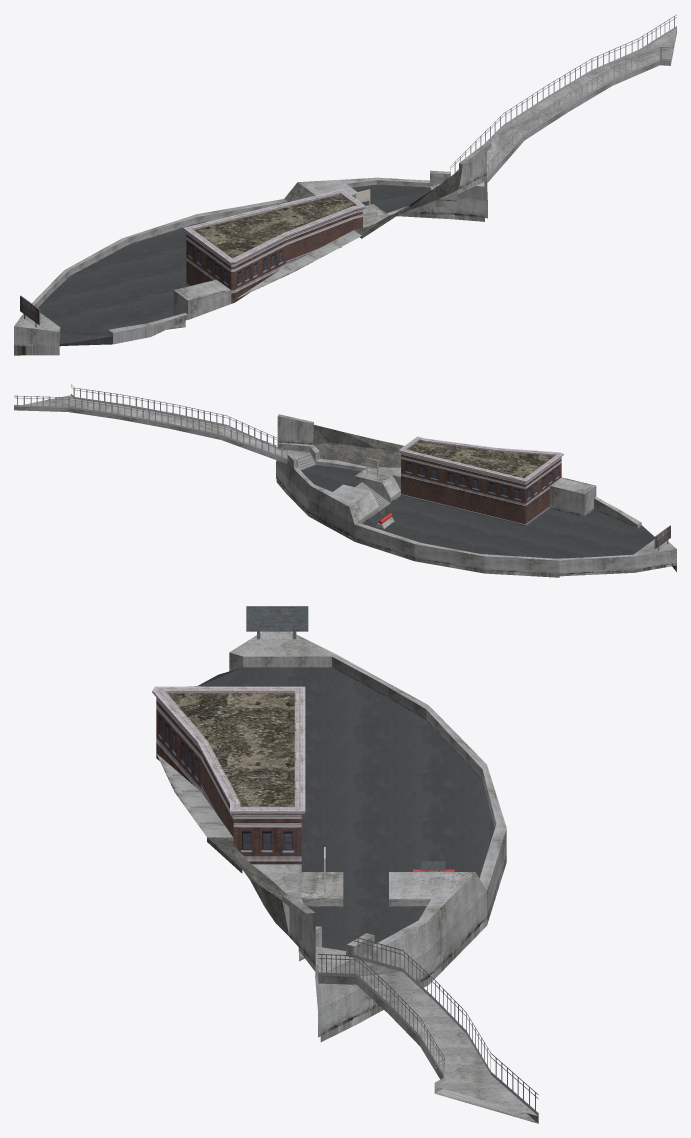
The model's file is ggate_park_sfw.obj.
3 views of the same model, one above another, from view 1: azimuth 30°, elevation 25°; view 2: azimuth 150°, elevation 25°; view 3: azimuth 270°, elevation 25° (orthographic). The views are drawn at different scales.
Visible parts, largest first — view 1: ggate_park_sfw; view 2: ggate_park_sfw; view 3: ggate_park_sfw.
Boxes of the visible parts, box(x1,y1,x2,y2) form: ggate_park_sfw: box(14, 14, 676, 355); ggate_park_sfw: box(14, 384, 676, 577); ggate_park_sfw: box(152, 606, 538, 1123).
Bounding box in the file's own units: 158 × 20.05 × 44.17.
Materials: 17 (17 with a texture image).
